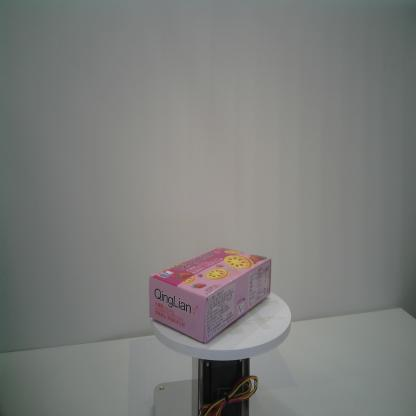Dessert: (148, 245, 272, 344)
